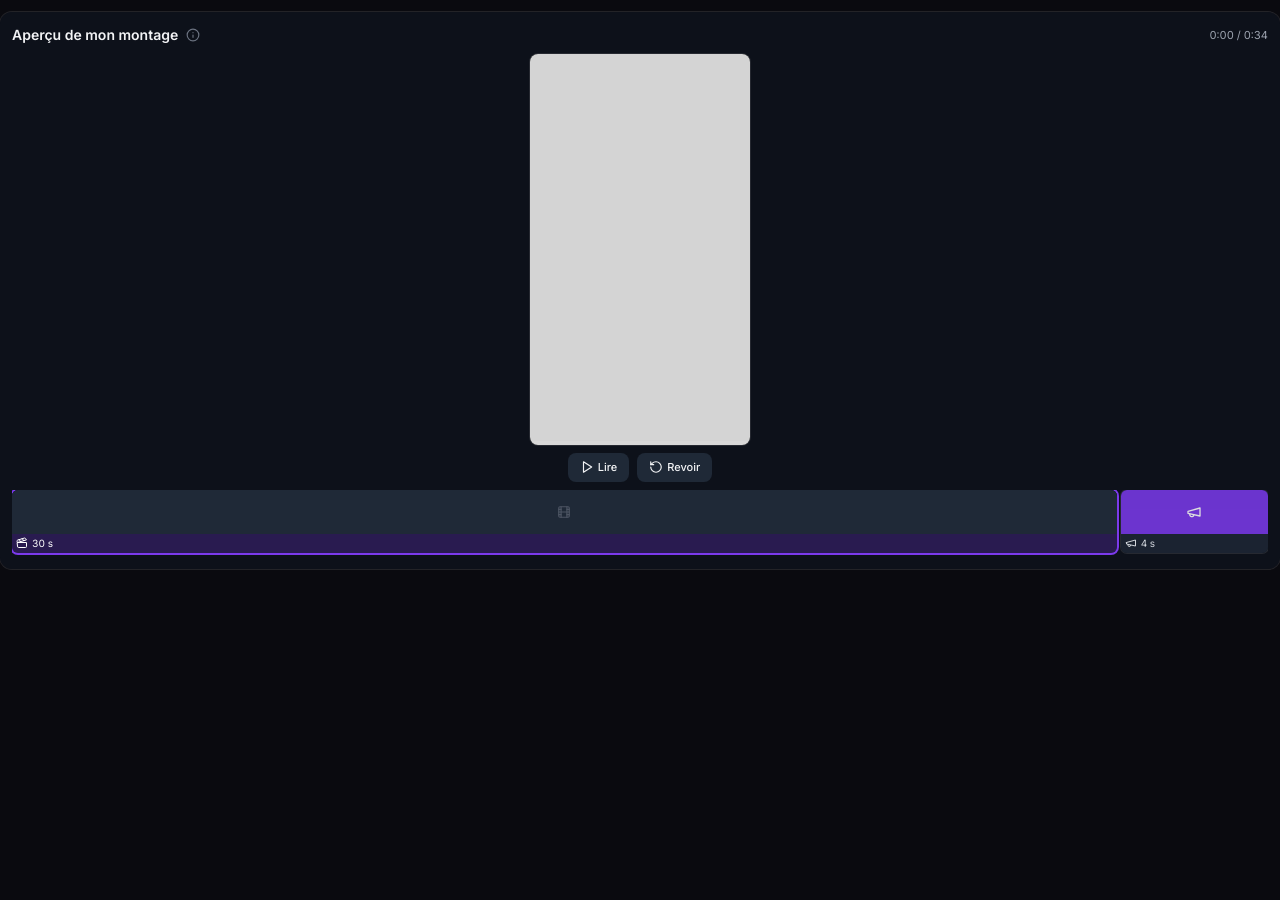
Test: « Aperçu de mon montage » — lecture, durée, chronologie visibles ; explication à la demande › sousTitreEnInfo : pas de ligne grise, une icône Info près du titre
Expected: the button "Lire" is shown, [568,453,629,482]
Expected: the button "Revoir" is shown, [637,453,712,482]
Click the button named "En savoir plus sur l’aperçu du montage". click: (193, 35)
box: [182,24,204,46]
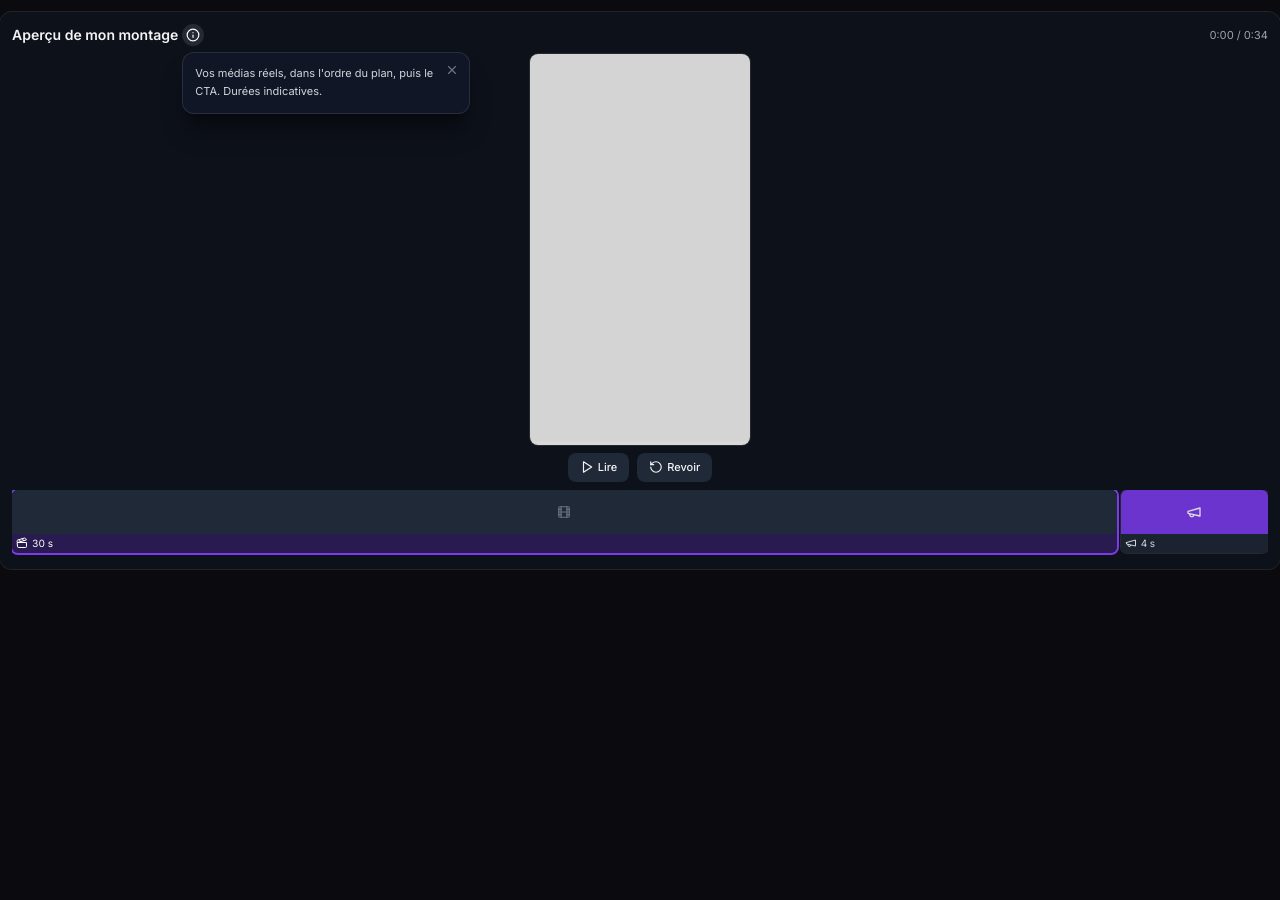
Expected: the dialog shows "Durées indicatives", [195,66,433,98]
